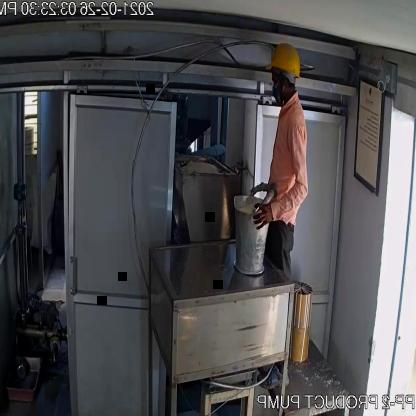helmet: (262, 39, 303, 84)
